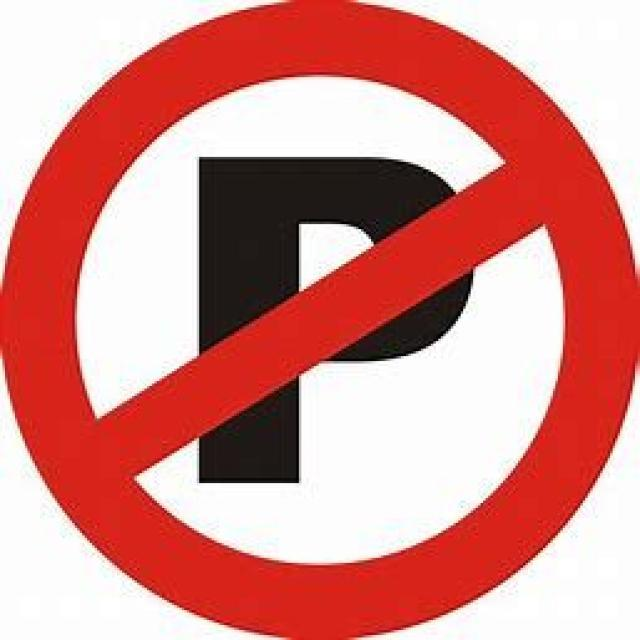no parking: (23, 19, 626, 624)
